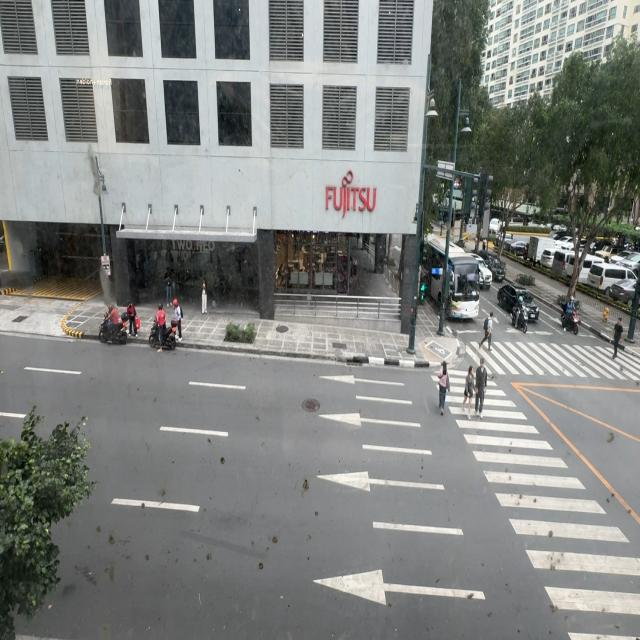crossing: (474, 359, 488, 417), (462, 366, 477, 420), (437, 361, 449, 415), (482, 310, 496, 356), (612, 318, 624, 359), (485, 313, 494, 349)
pedestrain: (126, 300, 138, 338), (201, 278, 207, 314)
